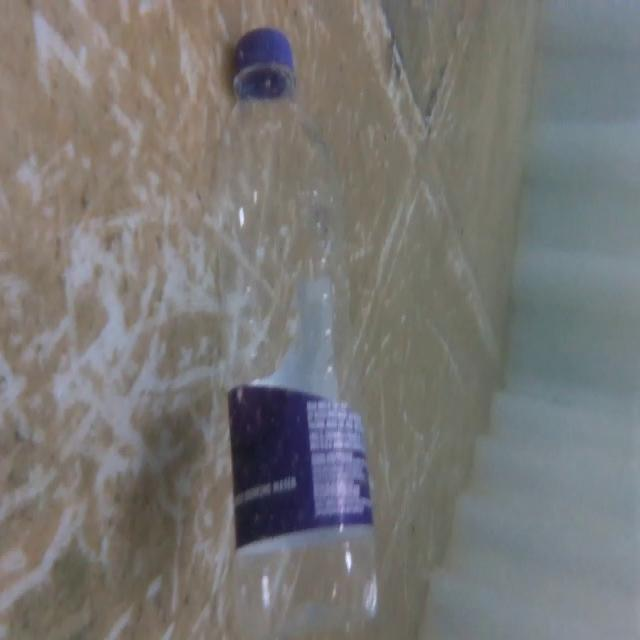plastic bottle: (205, 21, 385, 634)
